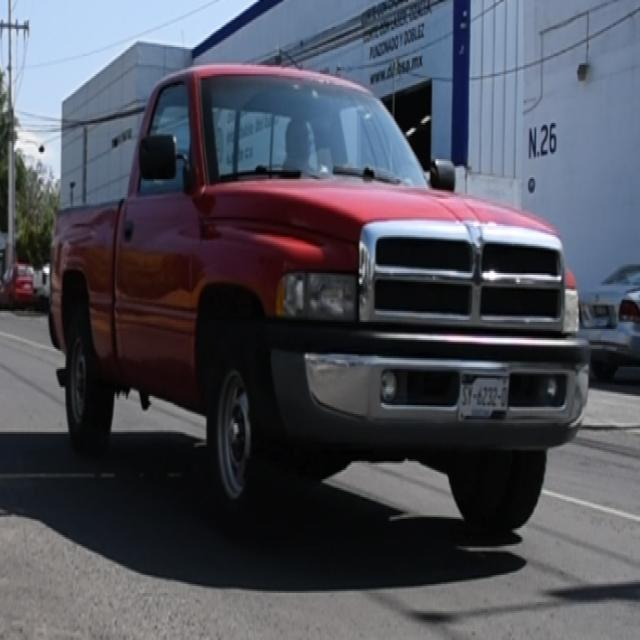placa: (458, 381, 511, 411)
